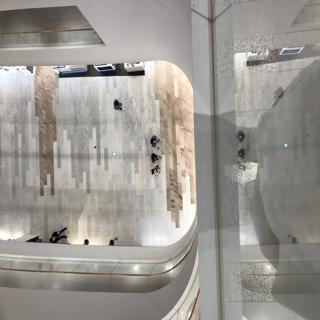person: (142, 127, 165, 152), (148, 157, 167, 180), (108, 99, 124, 113)
